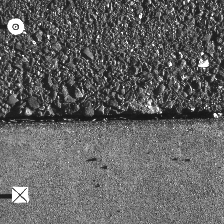circle: (7, 18, 24, 34)
crack: (1, 110, 223, 127)
square: (11, 186, 28, 203)
